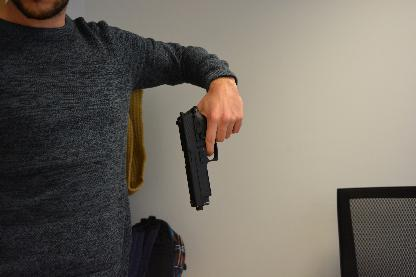pistol: (175, 104, 219, 210)
